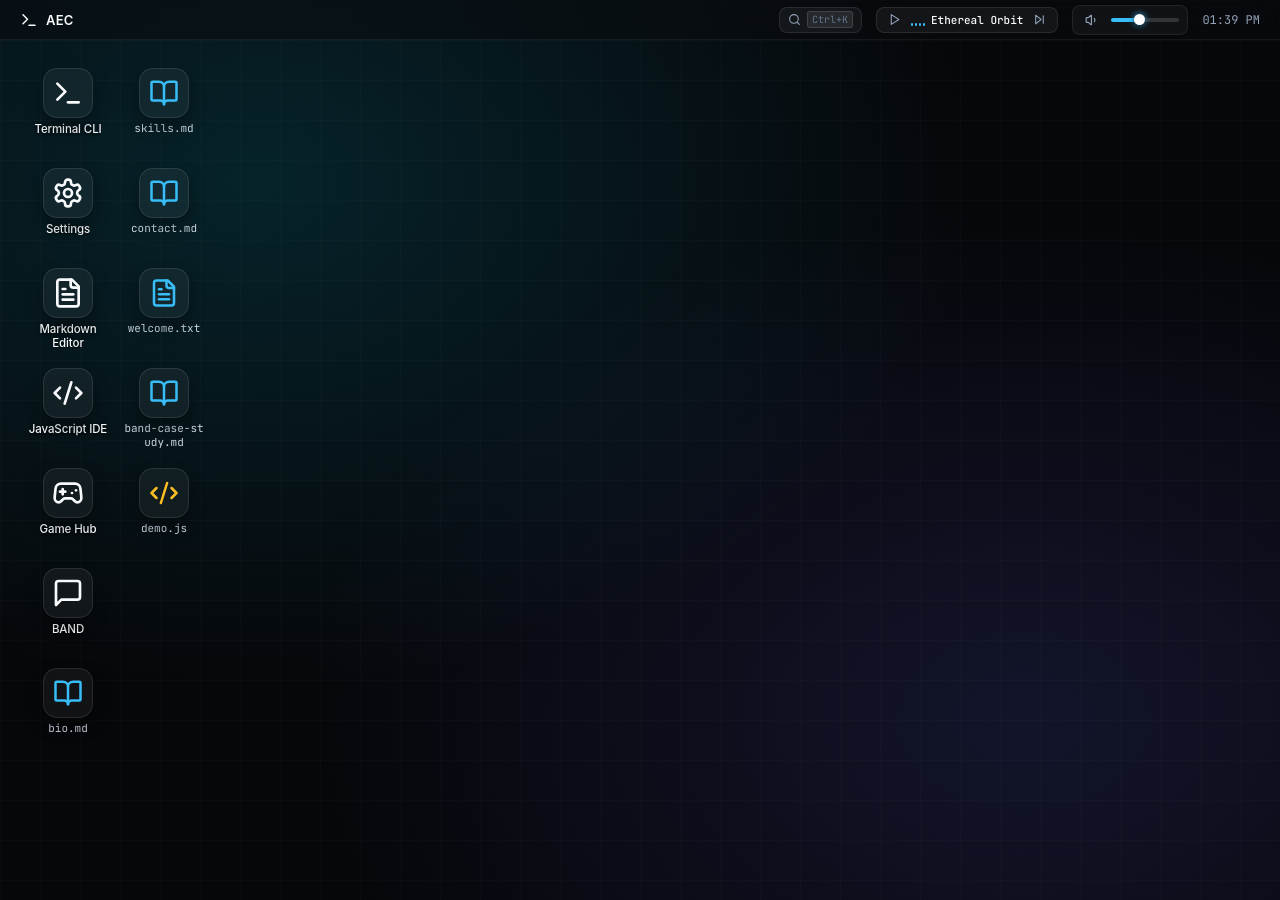
Test: Desktop Component › should spawn newly created file at exact right-click grid position
Right-click the element with test id "desktop-viewport" at (640, 450), box top-left (0, 0), bottom-right (1279, 899)
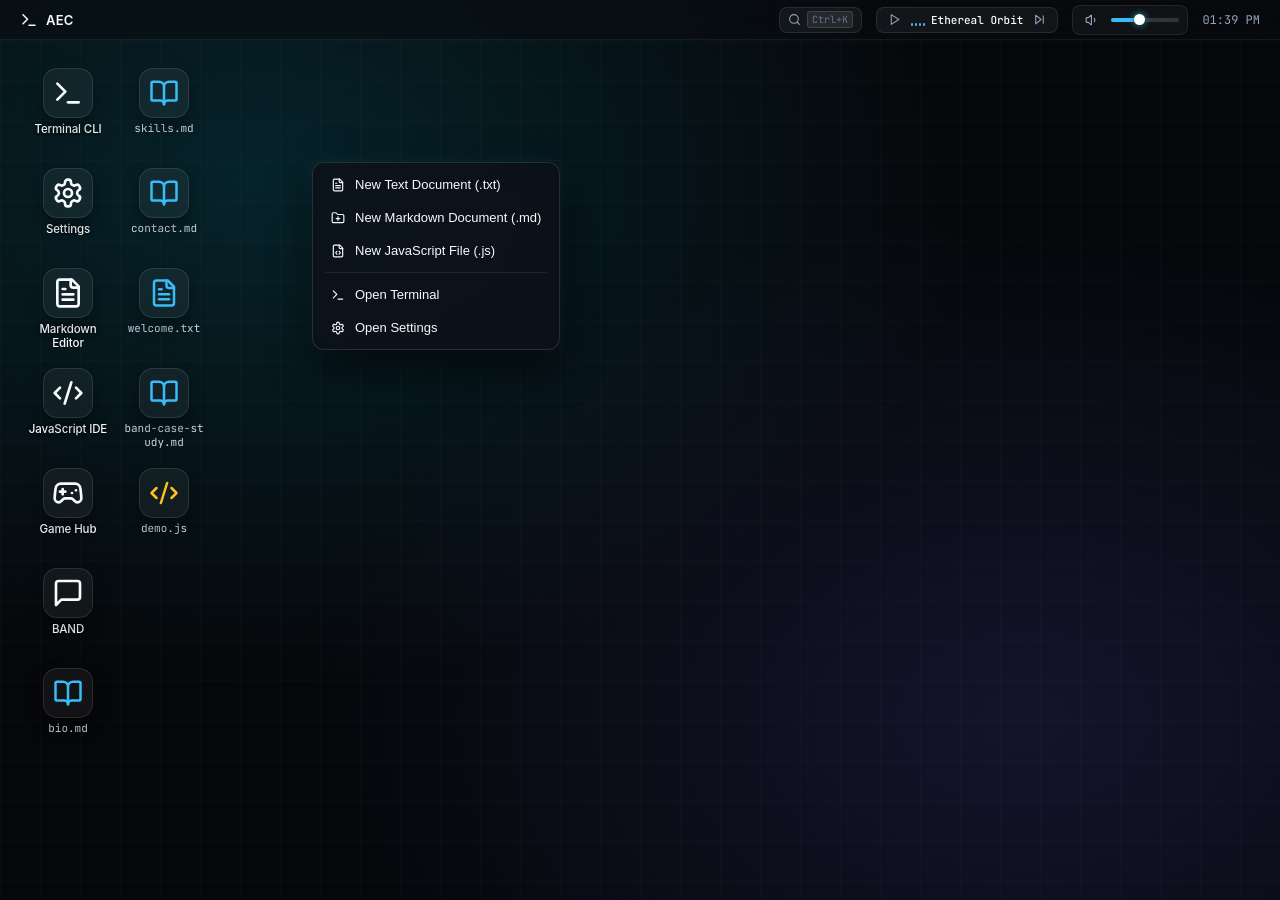
Click the menu item "New Markdown Document (.md)" at (436, 218), box top-left (319, 202), bottom-right (553, 233)
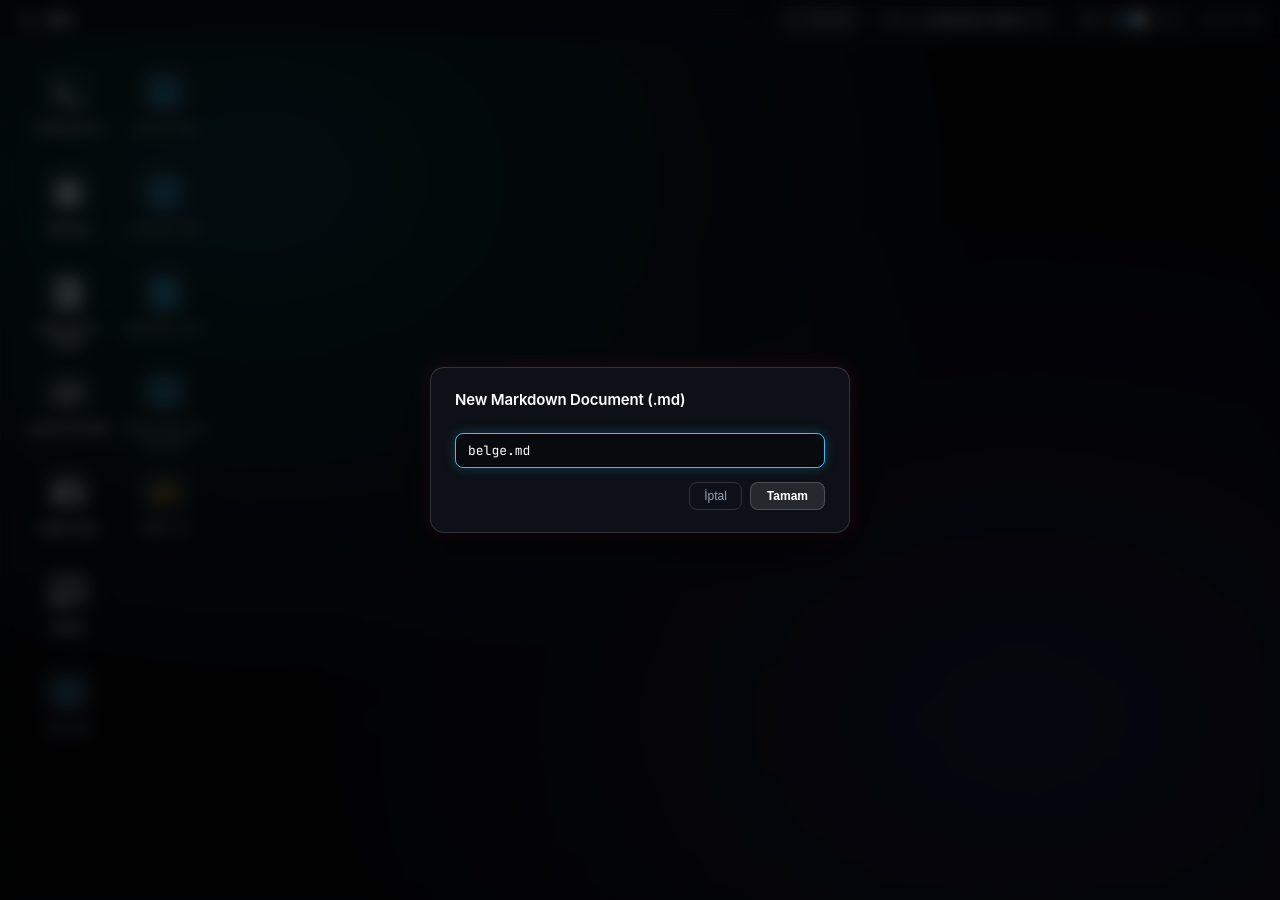
Replace the text in the field with "rightclick.md" at (640, 450), box top-left (455, 433), bottom-right (825, 468)
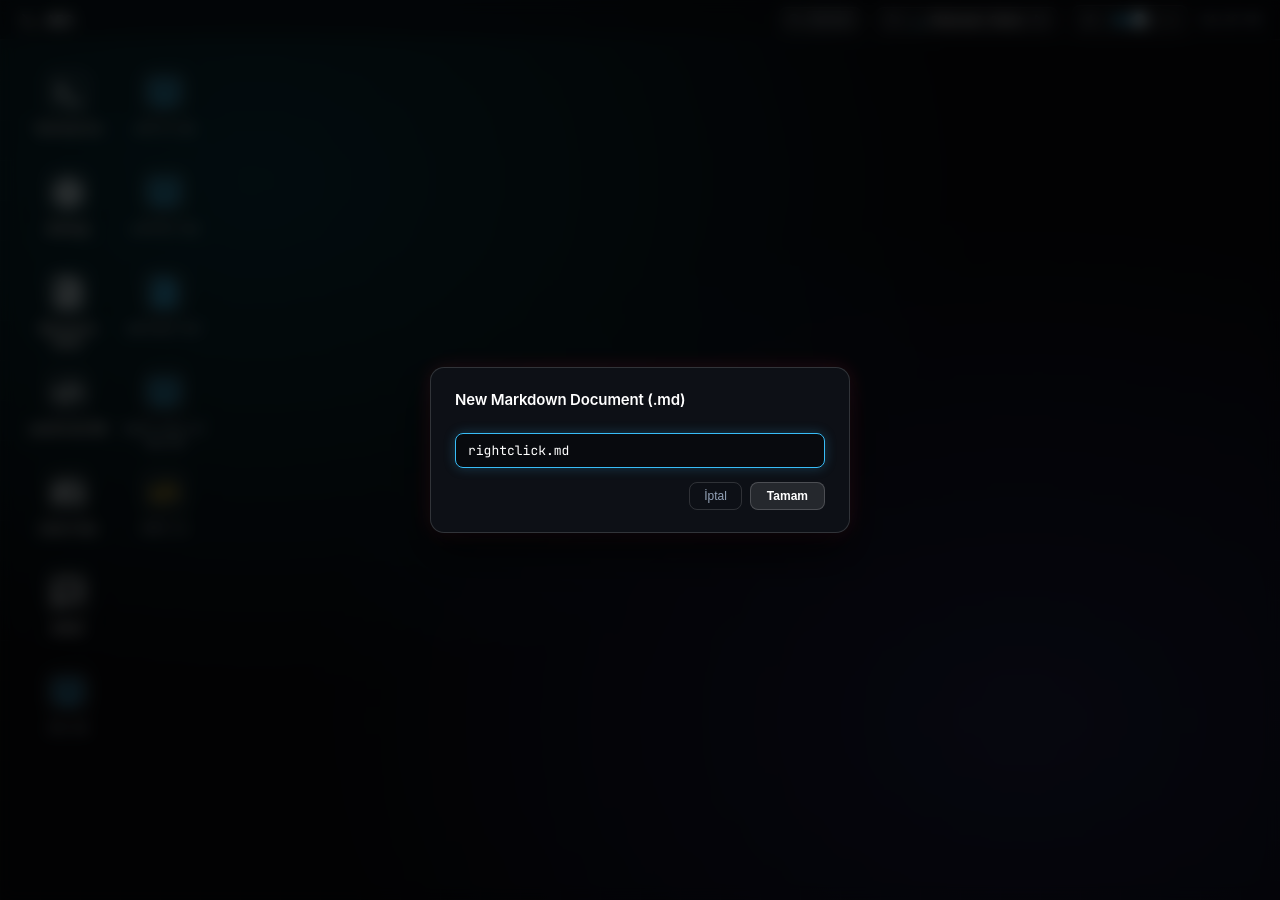
Submit the form, box top-left (455, 423), bottom-right (825, 510)
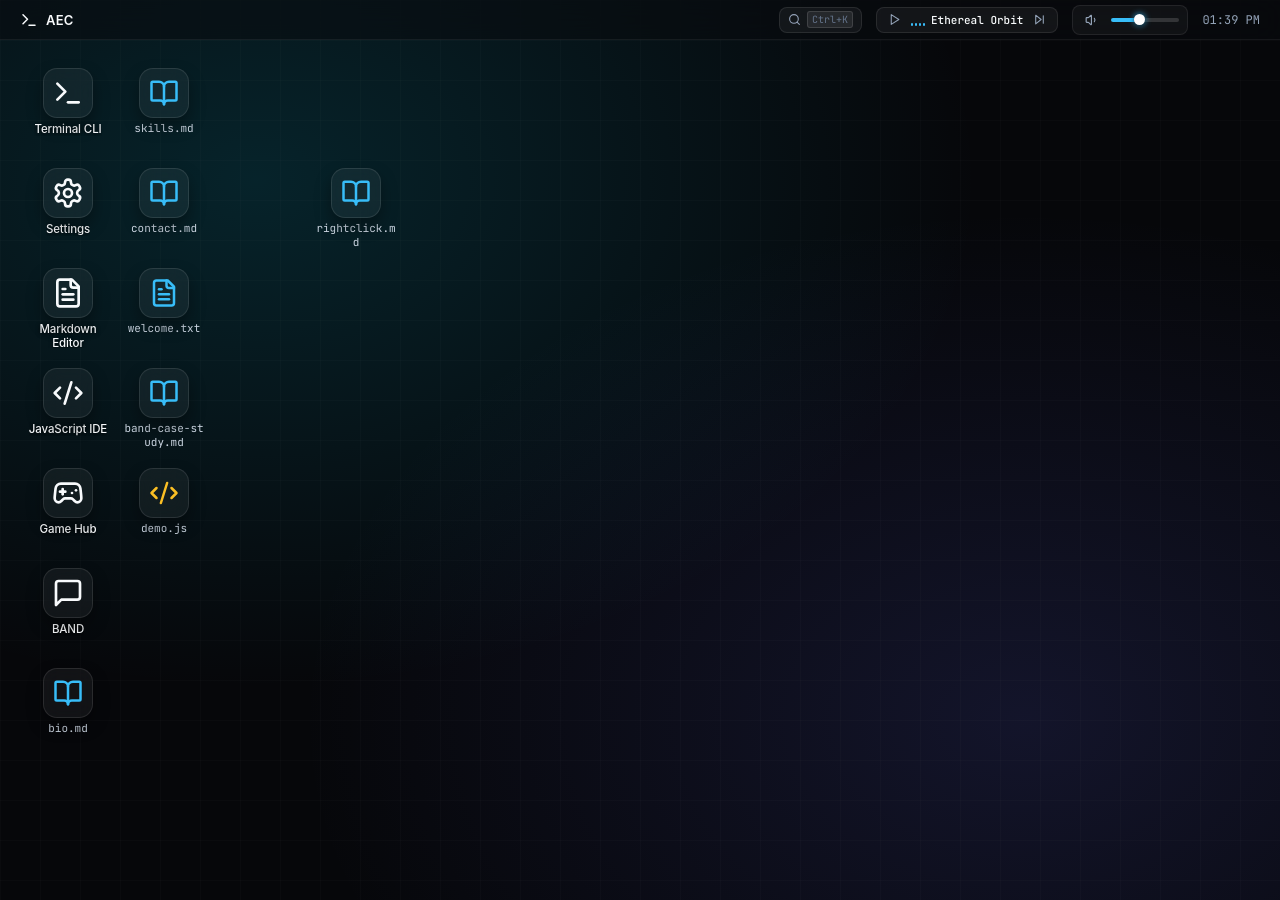
Now the button with test id "desktop-file-rightclick.md" is shown, box top-left (312, 162), bottom-right (400, 254)
